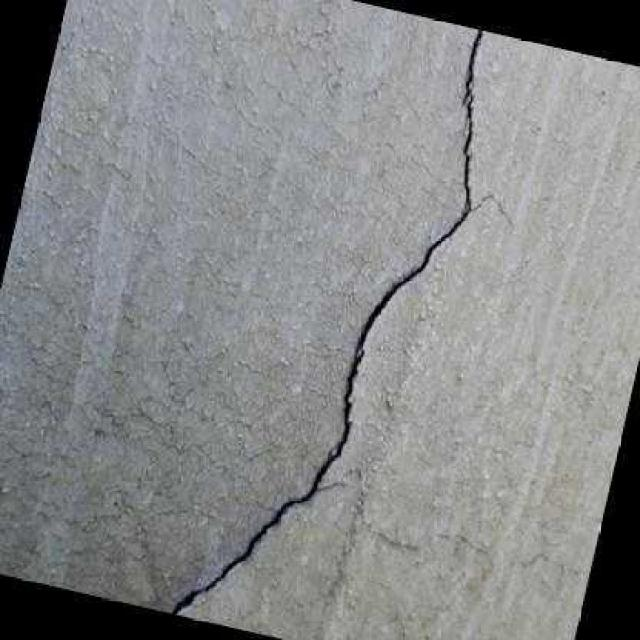D00: (165, 28, 484, 616)
